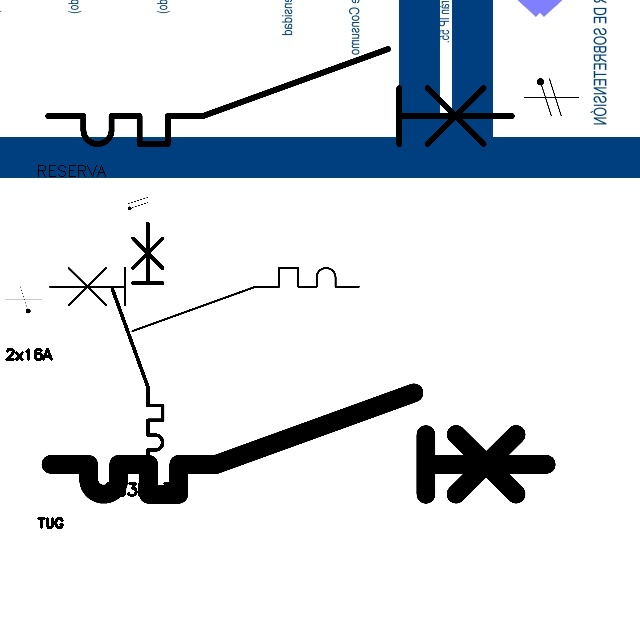interruptor_termomagnetico: (38, 380, 559, 507), (36, 37, 524, 156), (41, 260, 366, 339), (106, 217, 169, 475)
